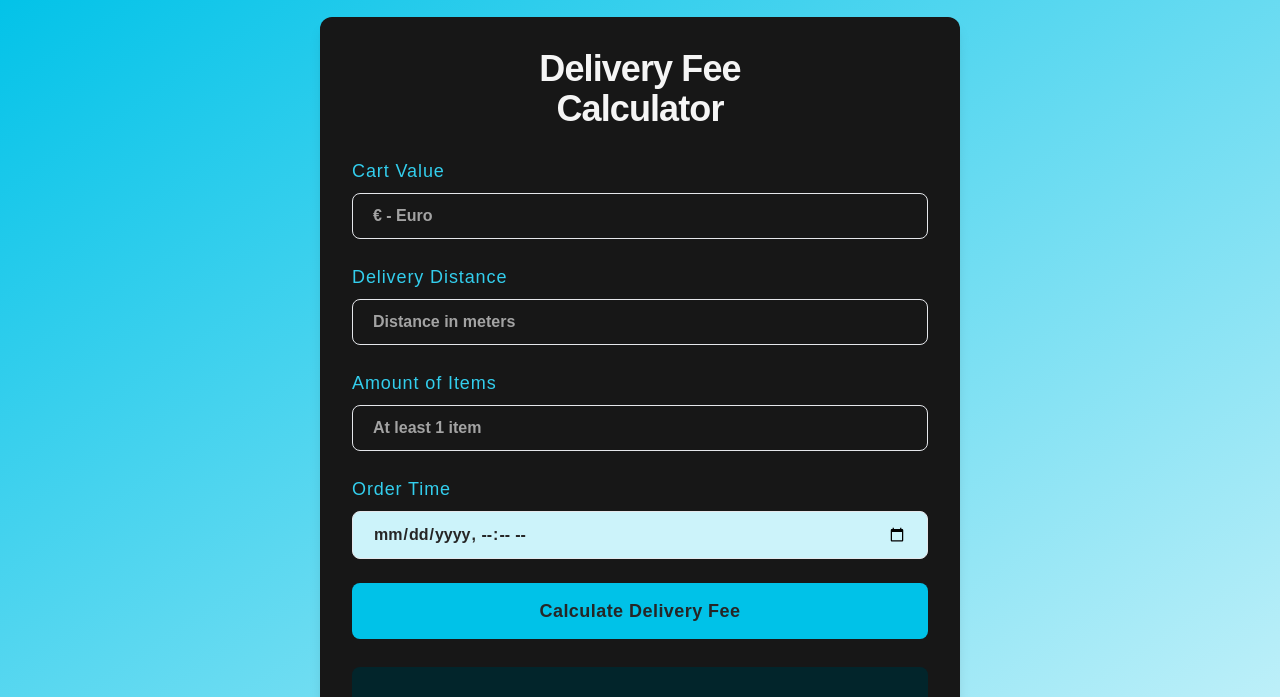
Test case: applies bulk fee for more than 12 items
// Set number of items to 15
Step 1. Type "8.90" into the number field with test id "cartValue" → [640, 216], box [352,193,928,239]
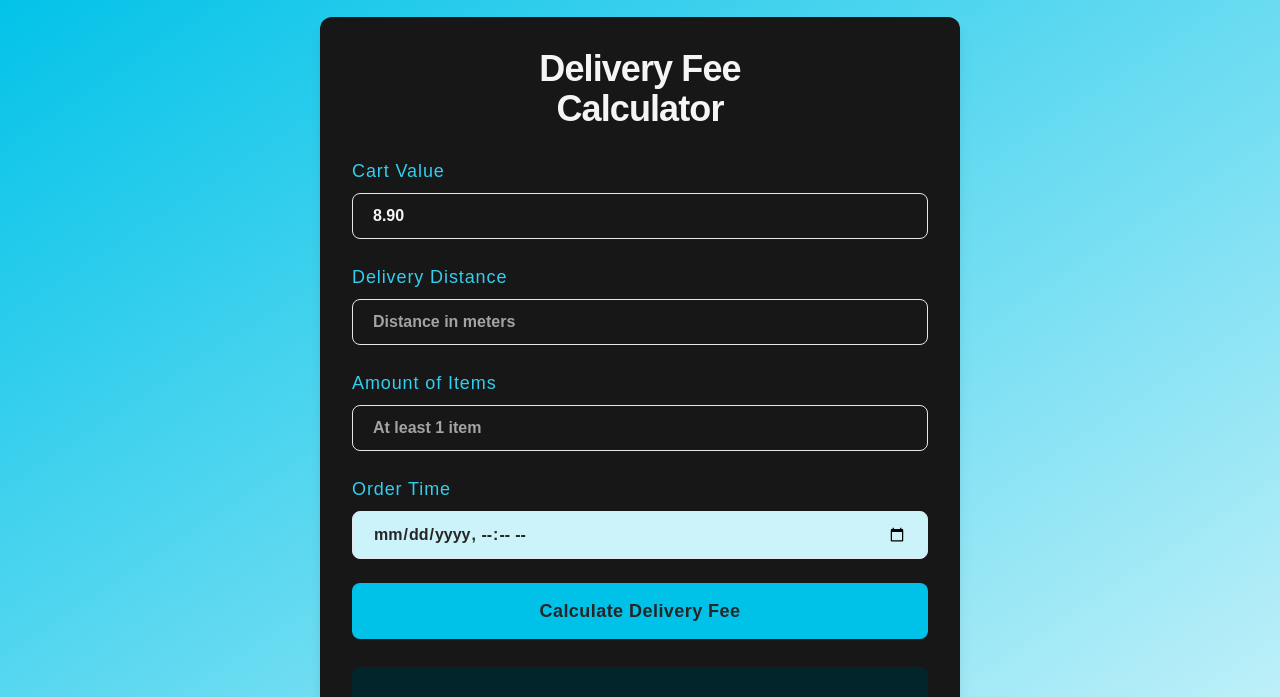
Step 2. Type "1600" into the number field with test id "deliveryDistance" → [640, 322], box [352,299,928,345]
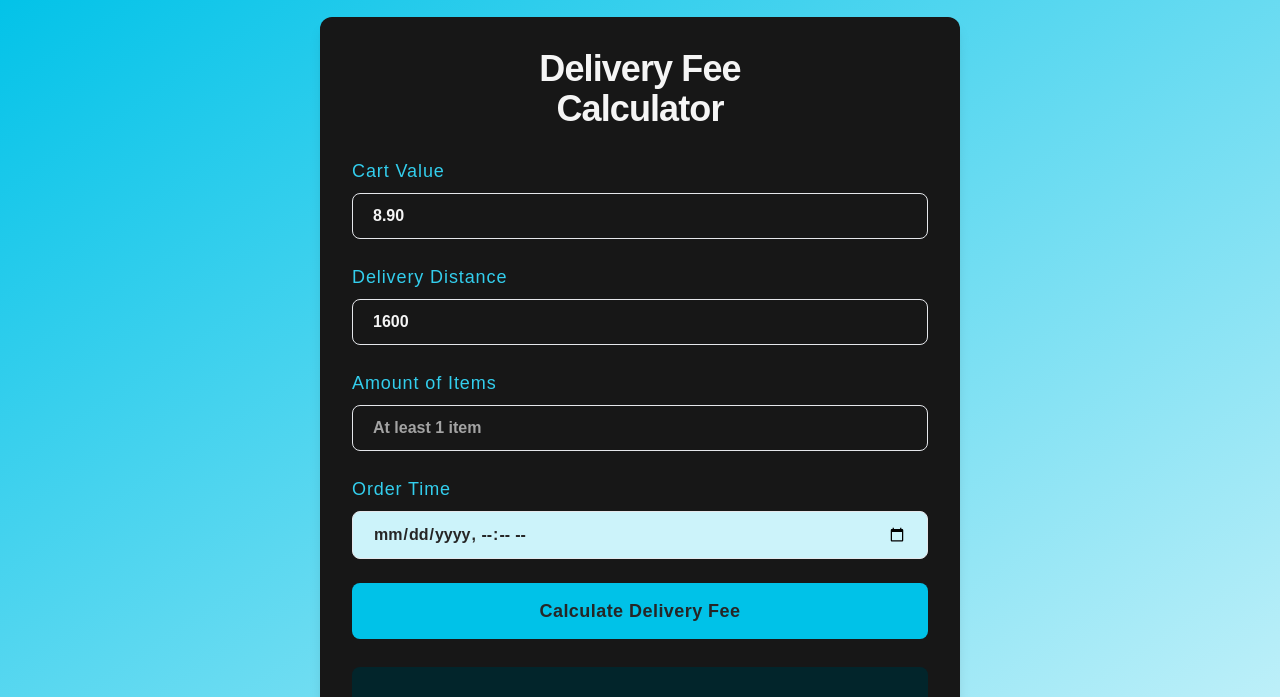
Step 3. Type "15" into the number field with test id "numItems" → [640, 428], box [352,405,928,451]
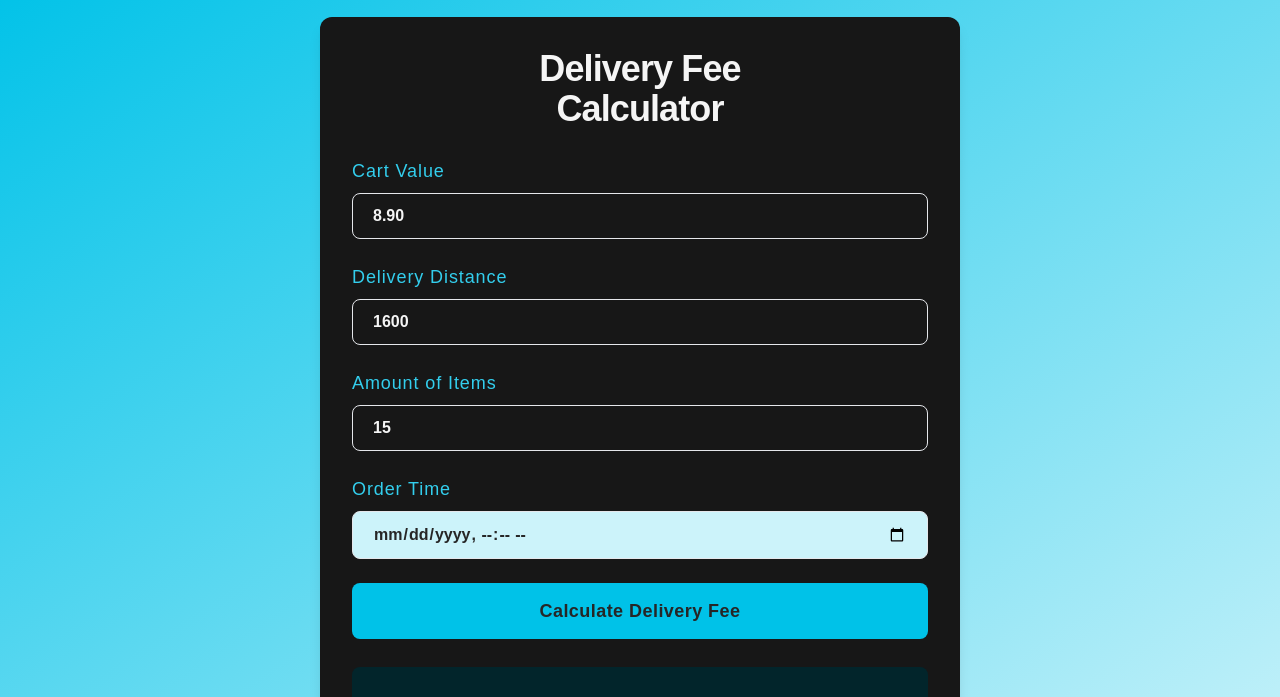
Step 4. Type "2022-01-25T12:00" into the field with test id "orderTime" → [640, 535], box [352,511,928,559]
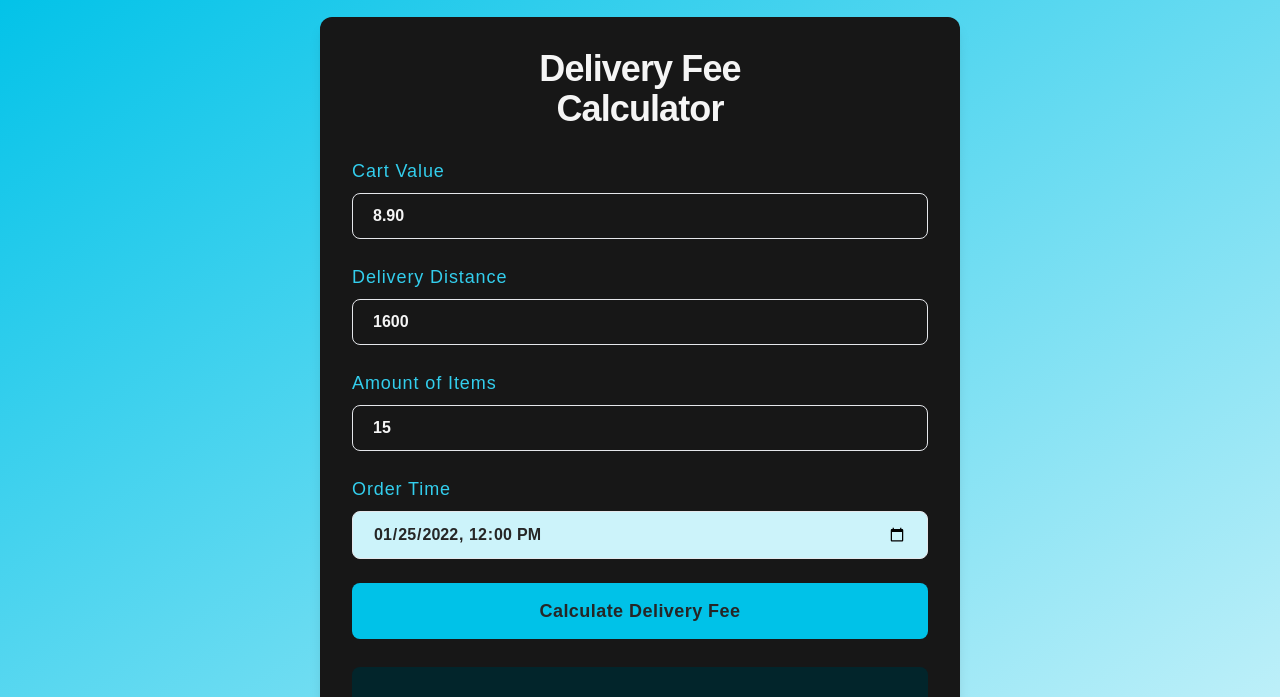
Step 5. Click the button "Calculate Delivery Fee" → [640, 611], box [352,583,928,639]
(page scrolled)
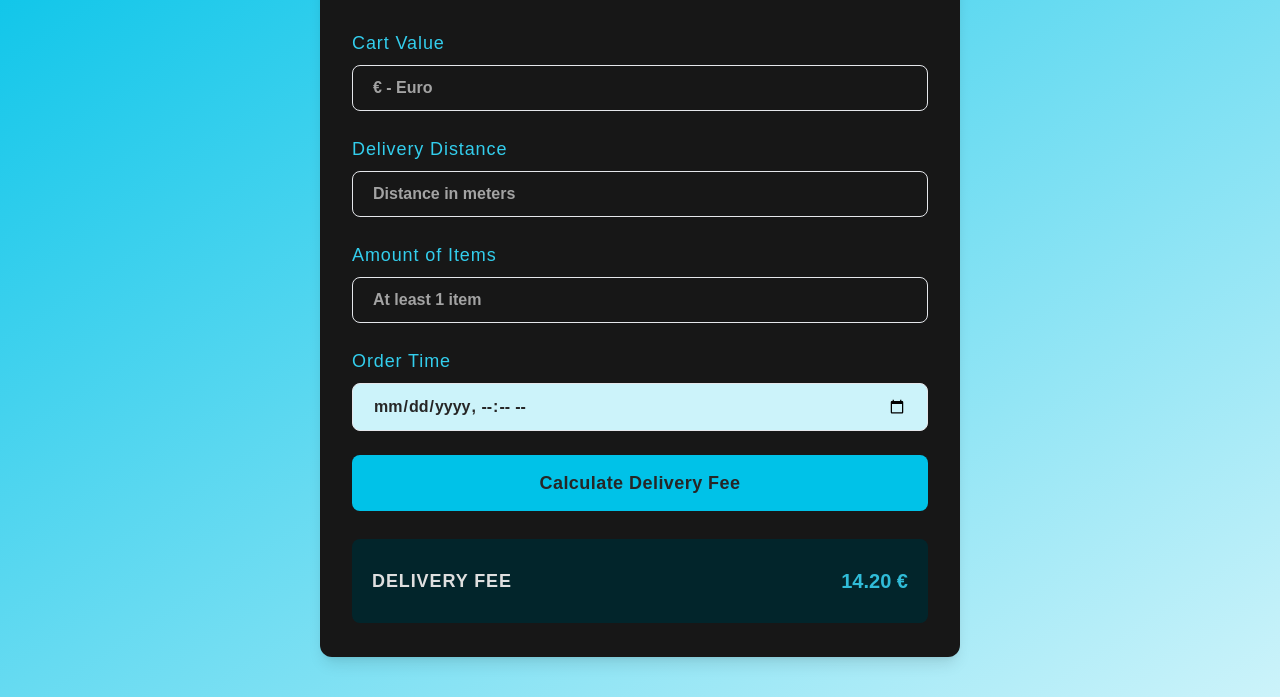
Expected: the text with test id "fee" reads "14.20 €", [841,567,908,595]
